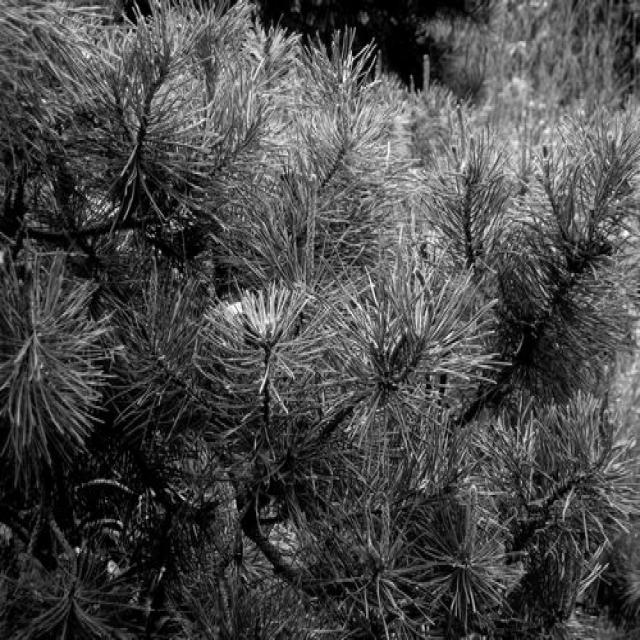Pinus contorta var: (1, 5, 640, 640)
